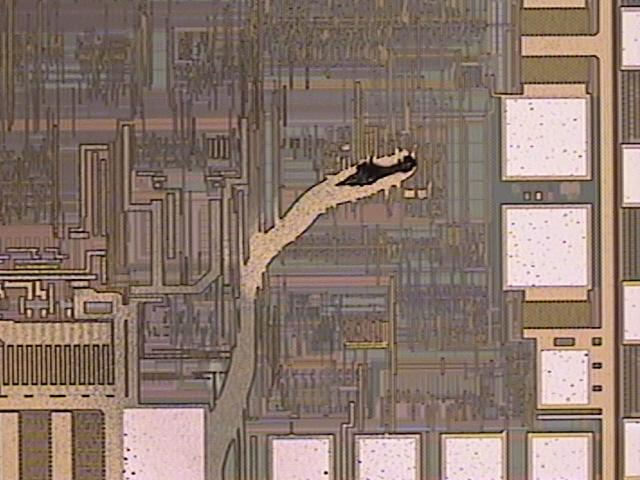BLOCK ETCH: (195, 147, 422, 480)
